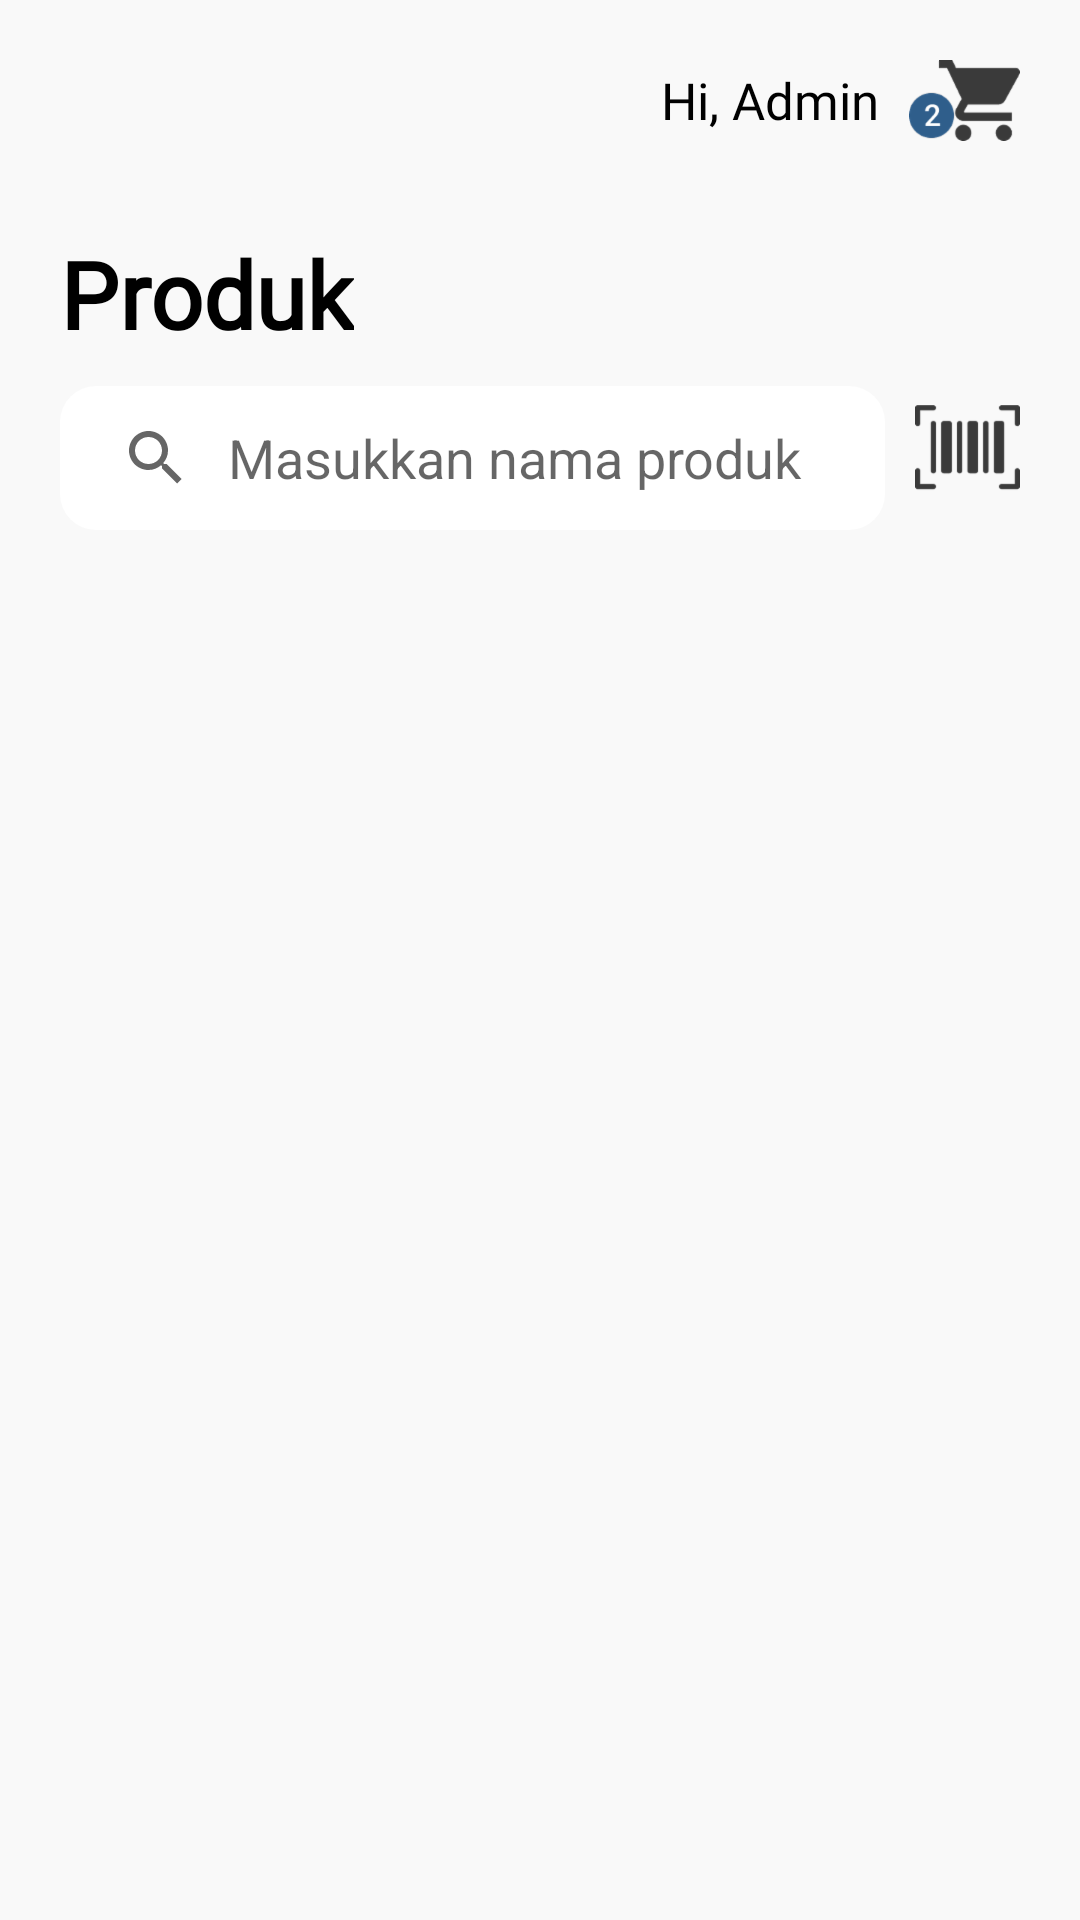

Icons on this 1080 × 1920 Android screen, each with its box as rect(x1, y1, x2, y2):
imgbarcode: rect(915, 405, 1020, 490)
